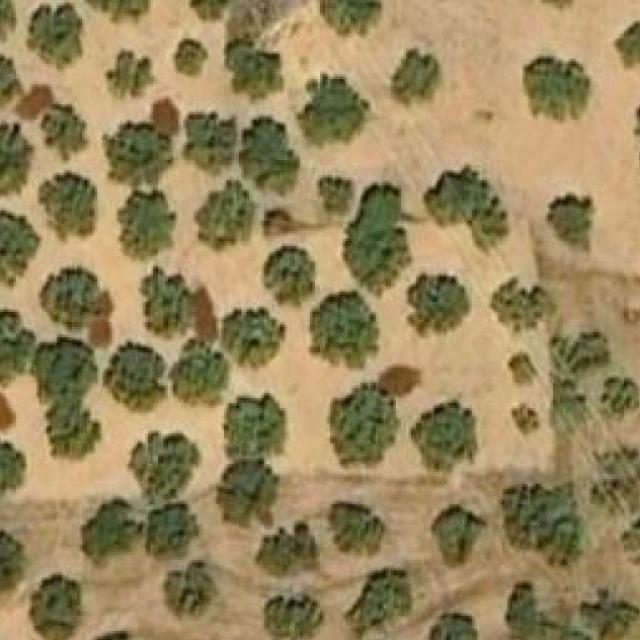Tree: (424, 167, 509, 256), (499, 481, 584, 570), (342, 183, 411, 290), (325, 380, 401, 469), (307, 292, 378, 371), (546, 330, 610, 414), (188, 180, 258, 254), (296, 77, 368, 148), (130, 432, 198, 506), (342, 568, 411, 639), (102, 340, 168, 414), (220, 390, 286, 463), (102, 120, 173, 186), (26, 1, 87, 75), (39, 170, 100, 244), (239, 114, 298, 188), (118, 190, 178, 262), (411, 400, 472, 469), (41, 269, 110, 330), (330, 612, 477, 640), (39, 401, 100, 465), (214, 464, 276, 526), (489, 277, 555, 335), (33, 337, 92, 399), (170, 337, 226, 401), (81, 499, 145, 555), (160, 560, 219, 619), (261, 246, 315, 310), (524, 57, 588, 110), (431, 502, 484, 566), (593, 447, 640, 518), (28, 575, 79, 640), (327, 499, 386, 555), (148, 270, 198, 336), (0, 208, 42, 286), (253, 525, 317, 575), (574, 590, 636, 640), (39, 102, 89, 163), (145, 502, 198, 558), (223, 312, 276, 367), (228, 42, 281, 97), (264, 595, 325, 640), (185, 114, 236, 165), (104, 49, 158, 97), (0, 124, 35, 198), (393, 52, 441, 105), (0, 307, 35, 378), (319, 0, 383, 36), (547, 196, 590, 249), (0, 529, 30, 595), (84, 0, 153, 26), (0, 438, 25, 499), (600, 378, 639, 416), (614, 21, 640, 76), (0, 51, 22, 114), (175, 38, 206, 77), (320, 177, 350, 216), (622, 520, 640, 580), (507, 352, 538, 386), (509, 403, 540, 436), (261, 206, 295, 236), (0, 0, 14, 41), (89, 631, 143, 640)
